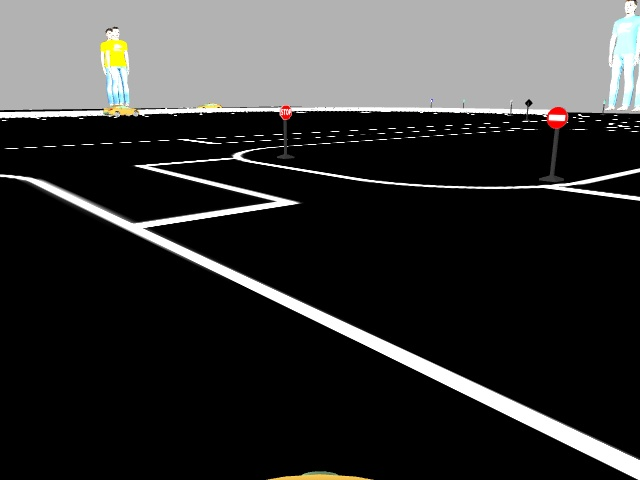NoEntry: (547, 107, 568, 127)
Stop: (276, 102, 291, 120)
